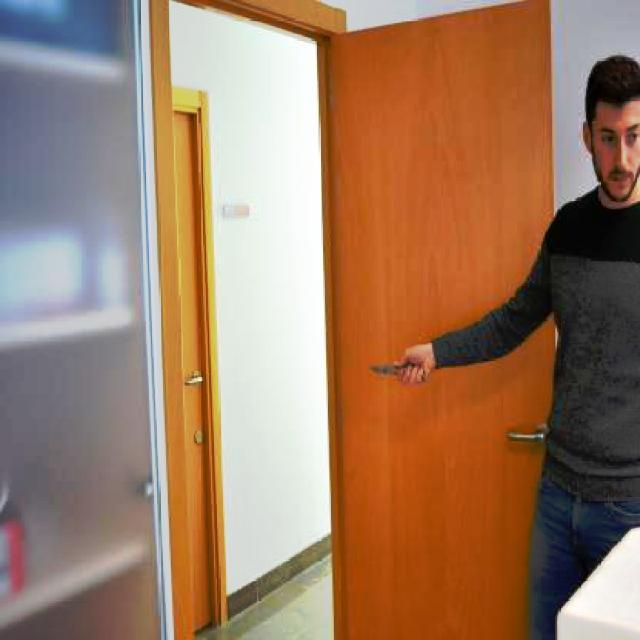Knife: (360, 344, 428, 384)
